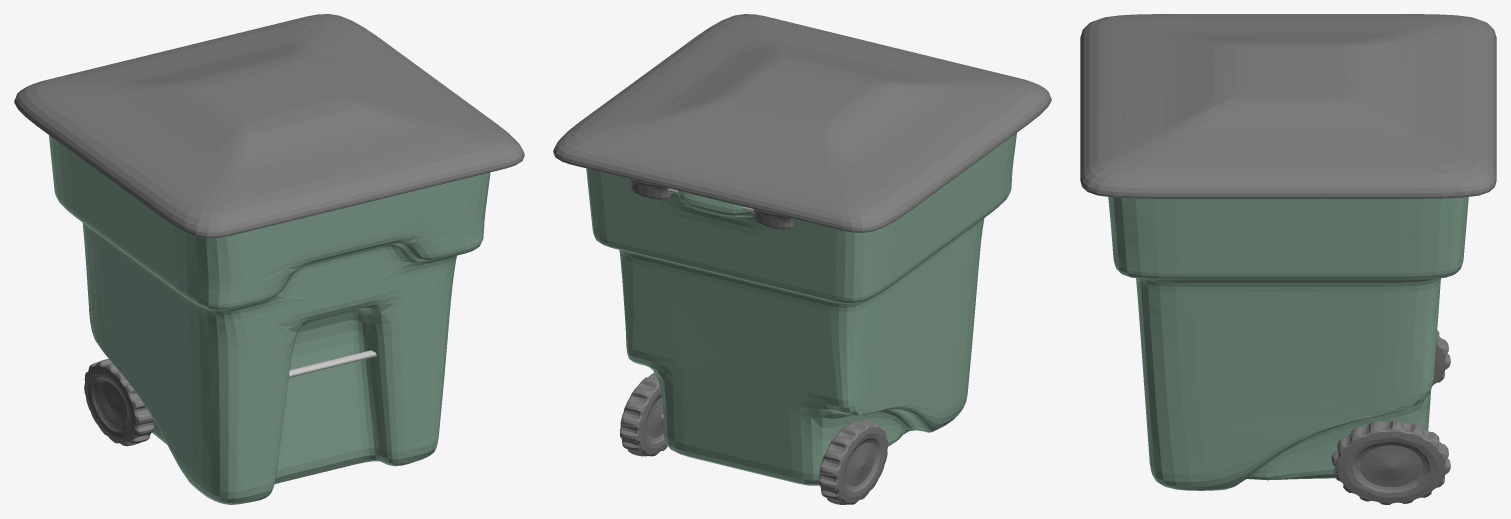
The model's file is sh-kl-residential-trashcan.glb.
3 renders of one model, left to right at view 1: azimuth 30°, elevation 25°; view 2: azimuth 150°, elevation 25°; view 3: azimuth 270°, elevation 25°, orthographic. The views are drawn at different scales.
Visible parts, largest first — view 1: residential_trash_residential_trash_PLASTIC_green, residential_trash_residential_trash_PLASTIC_black, residential_trash_residential_trash_METAL_aluminum; view 2: residential_trash_residential_trash_PLASTIC_green, residential_trash_residential_trash_PLASTIC_black; view 3: residential_trash_residential_trash_PLASTIC_black, residential_trash_residential_trash_PLASTIC_green.
Part boxes in pixels (x1,y1,x2,y2): residential_trash_residential_trash_PLASTIC_green: (49, 135, 490, 504); residential_trash_residential_trash_PLASTIC_black: (14, 14, 524, 446); residential_trash_residential_trash_METAL_aluminum: (288, 350, 376, 377); residential_trash_residential_trash_PLASTIC_green: (586, 133, 1016, 485); residential_trash_residential_trash_PLASTIC_black: (553, 14, 1051, 504); residential_trash_residential_trash_PLASTIC_black: (1080, 14, 1496, 504); residential_trash_residential_trash_PLASTIC_green: (1108, 197, 1468, 490).
Size of the model in its own units: 1 by 1 by 1.
